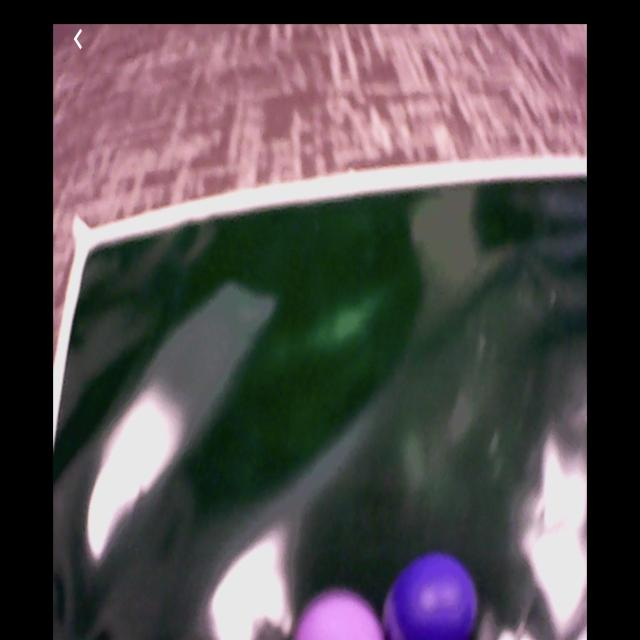ball: (385, 554, 479, 638), (294, 591, 387, 640)
